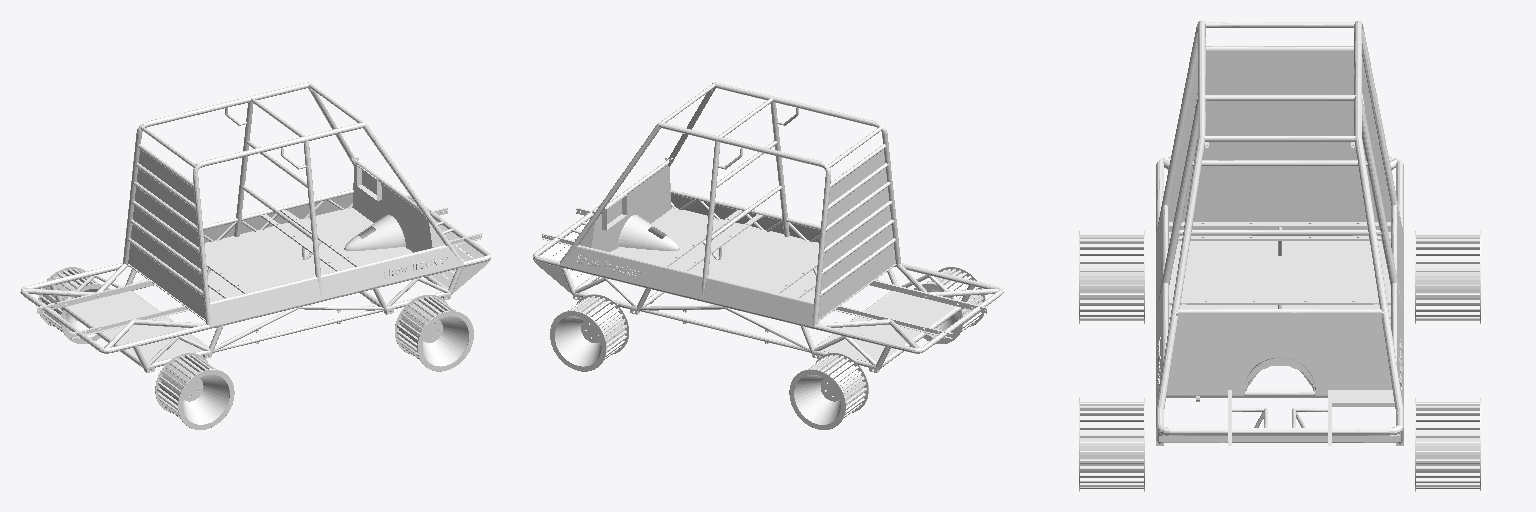
robot.urdf — test:
<?xml version="1.0" encoding="utf-8"?>
<!-- This URDF was automatically created by SolidWorks to URDF Exporter! Originally created by [author] ([email redacted]) 
     Commit Version: 1.6.0-4-g7f85cfe  Build Version: 1.6.7995.38578
     For more information, please see http://wiki.ros.org/sw_urdf_exporter -->
<robot
  name="test">
  <link
    name="base_link">
    <inertial>
      <origin
        xyz="-0.171399560462993 -0.0242066861825329 0.211672644624064"
        rpy="0 0 0" />
      <mass
        value="121.217324628281" />
      <inertia
        ixx="62.1235966421107"
        ixy="-1.54499480334561"
        ixz="0.458981565982811"
        iyy="160.733294857965"
        iyz="3.44486084682983"
        izz="166.056664129385" />
    </inertial>
    <visual>
      <origin
        xyz="0 0 0"
        rpy="0 0 0" />
      <geometry>
        <mesh
          filename="package://test/meshes/base_link.STL" />
      </geometry>
      <material
        name="">
        <color
          rgba="1 1 1 1" />
      </material>
    </visual>
    <collision>
      <origin
        xyz="0 0 0"
        rpy="0 0 0" />
      <geometry>
        <mesh
          filename="package://test/meshes/base_link.STL" />
      </geometry>
    </collision>
  </link>
  <link
    name="LF_wheel">
    <inertial>
      <origin
        xyz="3.10862446895044E-15 0.0290230131119653 -6.55031584528842E-15"
        rpy="0 0 0" />
      <mass
        value="52.2169190758616" />
      <inertia
        ixx="1.77452354904934"
        ixy="1.24587940601148E-08"
        ixz="-1.31024531626335E-06"
        iyy="2.50131402110028"
        iyz="-9.06991146792949E-08"
        izz="1.77453290744985" />
    </inertial>
    <visual>
      <origin
        xyz="0 0 0"
        rpy="0 0 0" />
      <geometry>
        <mesh
          filename="package://test/meshes/LF_wheel.STL" />
      </geometry>
      <material
        name="">
        <color
          rgba="1 1 1 1" />
      </material>
    </visual>
    <collision>
      <origin
        xyz="0 0 0"
        rpy="0 0 0" />
      <geometry>
        <mesh
          filename="package://test/meshes/LF_wheel.STL" />
      </geometry>
    </collision>
  </link>
  <joint
    name="LF_wheel_joint"
    type="continuous">
    <origin
      xyz="1.0033 1.016 -0.47182"
      rpy="0 0 0" />
    <parent
      link="base_link" />
    <child
      link="LF_wheel" />
    <axis
      xyz="0 -1 0" />
  </joint>
  <link
    name="RF_wheel">
    <inertial>
      <origin
        xyz="-6.88338275267597E-15 -0.029023013111966 -1.11022302462516E-15"
        rpy="0 0 0" />
      <mass
        value="52.2169190758616" />
      <inertia
        ixx="1.77453124365927"
        ixy="8.24098864002053E-08"
        ixz="3.81037561004767E-06"
        iyy="2.50131402110028"
        iyz="3.98768354217562E-08"
        izz="1.77452521283992" />
    </inertial>
    <visual>
      <origin
        xyz="0 0 0"
        rpy="0 0 0" />
      <geometry>
        <mesh
          filename="package://test/meshes/RF_wheel.STL" />
      </geometry>
      <material
        name="">
        <color
          rgba="1 1 1 1" />
      </material>
    </visual>
    <collision>
      <origin
        xyz="0 0 0"
        rpy="0 0 0" />
      <geometry>
        <mesh
          filename="package://test/meshes/RF_wheel.STL" />
      </geometry>
    </collision>
  </link>
  <joint
    name="RF_wheel_joint"
    type="continuous">
    <origin
      xyz="1.00330000000075 -1.016 -0.471818529378031"
      rpy="0 0 0" />
    <parent
      link="base_link" />
    <child
      link="RF_wheel" />
    <axis
      xyz="0 -1 0" />
  </joint>
  <link
    name="LB_wheel">
    <inertial>
      <origin
        xyz="-6.21724893790088E-15 0.029023013111965 -3.66373598126302E-15"
        rpy="0 0 0" />
      <mass
        value="52.2169190758614" />
      <inertia
        ixx="1.77453269284909"
        ixy="-8.96730164858362E-08"
        ixz="1.91807432583978E-06"
        iyy="2.50131402110028"
        iyz="-1.84472535331099E-08"
        izz="1.77452376365009" />
    </inertial>
    <visual>
      <origin
        xyz="0 0 0"
        rpy="0 0 0" />
      <geometry>
        <mesh
          filename="package://test/meshes/LB_wheel.STL" />
      </geometry>
      <material
        name="">
        <color
          rgba="1 1 1 1" />
      </material>
    </visual>
    <collision>
      <origin
        xyz="0 0 0"
        rpy="0 0 0" />
      <geometry>
        <mesh
          filename="package://test/meshes/LB_wheel.STL" />
      </geometry>
    </collision>
  </link>
  <joint
    name="LB_wheel_joint"
    type="continuous">
    <origin
      xyz="-1.5113 1.016 -0.47182"
      rpy="0 0 0" />
    <parent
      link="base_link" />
    <child
      link="LB_wheel" />
    <axis
      xyz="0 -1 0" />
  </joint>
  <link
    name="RB_wheel">
    <inertial>
      <origin
        xyz="-3.33066907387547E-15 -0.0290230131119646 -6.55031584528842E-15"
        rpy="0 0 0" />
      <mass
        value="52.2169190758611" />
      <inertia
        ixx="1.77452348889691"
        ixy="1.01658266648705E-08"
        ixz="1.07247104390985E-06"
        iyy="2.50131402110026"
        iyz="9.09846480667055E-08"
        izz="1.77453296760223" />
    </inertial>
    <visual>
      <origin
        xyz="0 0 0"
        rpy="0 0 0" />
      <geometry>
        <mesh
          filename="package://test/meshes/RB_wheel.STL" />
      </geometry>
      <material
        name="">
        <color
          rgba="1 1 1 1" />
      </material>
    </visual>
    <collision>
      <origin
        xyz="0 0 0"
        rpy="0 0 0" />
      <geometry>
        <mesh
          filename="package://test/meshes/RB_wheel.STL" />
      </geometry>
    </collision>
  </link>
  <joint
    name="RB_wheel_joint"
    type="continuous">
    <origin
      xyz="-1.5113 -1.016 -0.47182"
      rpy="0 0 0" />
    <parent
      link="base_link" />
    <child
      link="RB_wheel" />
    <axis
      xyz="0 -1 0" />
  </joint>
</robot>

--- Render facts (derived) ---
The picture shows the robot from 3 angles, left to right: view 1: azimuth 30°, elevation 25°; view 2: azimuth 150°, elevation 25°; view 3: azimuth 270°, elevation 25°; orthographic projection.
Robot: test — 5 links, 4 joints (4 continuous); root link base_link; default pose: all joints at 0.
Links seen in each view (by area): view 1: base_link, RB_wheel, RF_wheel, LB_wheel; view 2: base_link, LF_wheel, LB_wheel, RB_wheel; view 3: base_link, RF_wheel, LF_wheel, LB_wheel, RB_wheel.
Boxes of the visible links, x1,y1,x2,y2 form: base_link: [20, 82, 490, 372]; RB_wheel: [155, 353, 234, 429]; RF_wheel: [395, 294, 473, 371]; LB_wheel: [38, 267, 109, 343]; base_link: [533, 82, 1003, 372]; LF_wheel: [550, 294, 628, 371]; LB_wheel: [789, 353, 868, 429]; RB_wheel: [914, 267, 985, 343]; base_link: [1156, 21, 1403, 445]; RF_wheel: [1079, 398, 1144, 491]; LF_wheel: [1415, 398, 1480, 491]; LB_wheel: [1415, 231, 1480, 323]; RB_wheel: [1079, 231, 1144, 323].
Bounding box of the posed robot: 4.32 × 2.55 × 2.28 m (x, y, z).
5 mesh visuals loaded from 5 distinct referenced files (5 binary STL).